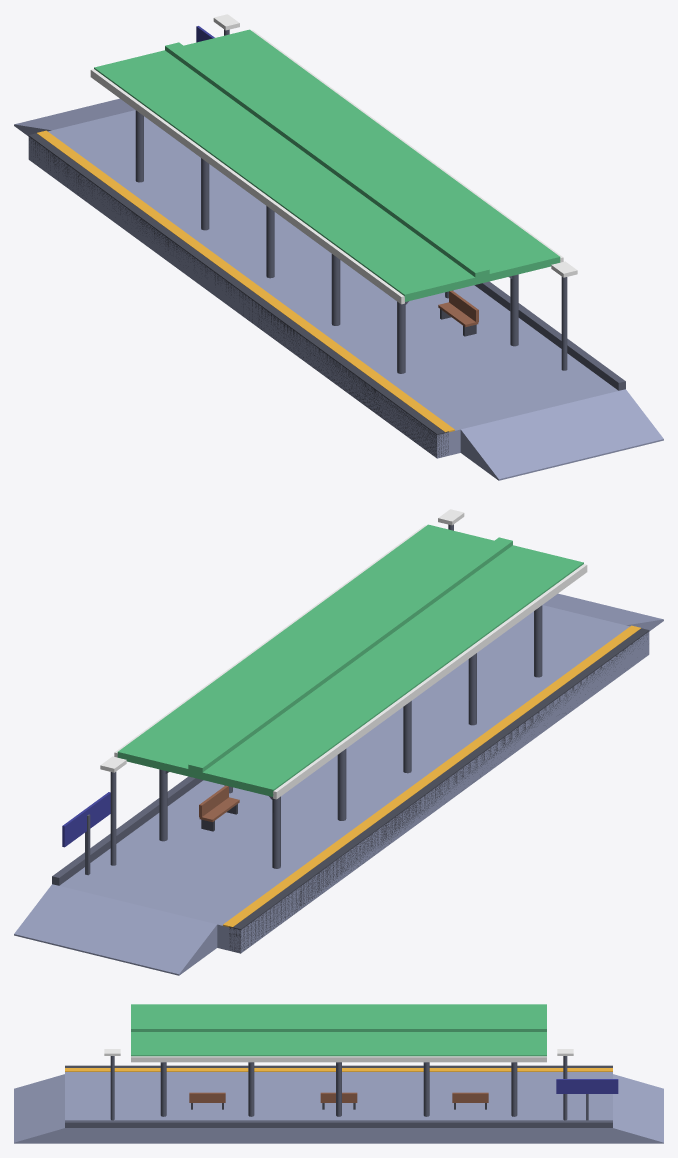
Rendered from quai-gare.glb.
3 views of the same model, one above another, from view 1: azimuth 30°, elevation 25°; view 2: azimuth 150°, elevation 25°; view 3: azimuth 270°, elevation 25° (orthographic). The views are drawn at different scales.
Parts seen in each view (by area): view 1: dalle, toit-abri, rampe-ar, nez-de-quai, faitiere, bande-eveil, bandeau-rive-g, bordure-arriere, rampe-av, bandeau-rive-d, poteau-3g; view 2: dalle, toit-abri, rampe-av, nez-de-quai, faitiere, bande-eveil, bandeau-rive-g, bordure-arriere, rampe-ar, panneau-nom, bandeau-rive-d, poteau-1g; view 3: dalle, toit-abri, bordure-arriere, faitiere, rampe-ar, rampe-av, bandeau-rive-d, bande-eveil, nez-de-quai, dossier (×3), panneau-nom, poteau-0d (+6 smaller).
Part boxes in pixels (left/top/right/bottom): dalle: left=28, top=110, right=618, bottom=458; toit-abri: left=94, top=29, right=560, bottom=301; rampe-ar: left=460, top=389, right=663, bottom=480; nez-de-quai: left=28, top=133, right=448, bottom=457; faitiere: left=165, top=42, right=489, bottom=277; bande-eveil: left=37, top=130, right=454, bottom=432; bandeau-rive-g: left=90, top=69, right=404, bottom=304; bordure-arriere: left=474, top=281, right=625, bottom=390; rampe-av: left=14, top=98, right=134, bottom=136; bandeau-rive-d: left=252, top=30, right=563, bottom=262; poteau-3g: left=331, top=254, right=340, bottom=325; dalle: left=59, top=605, right=649, bottom=953; toit-abri: left=117, top=524, right=583, bottom=796; rampe-av: left=14, top=884, right=217, bottom=975; nez-de-quai: left=229, top=628, right=649, bottom=953; faitiere: left=188, top=537, right=512, bottom=772; bande-eveil: left=223, top=625, right=640, bottom=927; bandeau-rive-g: left=273, top=564, right=587, bottom=799; bordure-arriere: left=52, top=776, right=203, bottom=885; rampe-ar: left=543, top=593, right=663, bottom=631; panneau-nom: left=62, top=792, right=110, bottom=847; bandeau-rive-d: left=114, top=525, right=425, bottom=757; poteau-1g: left=337, top=749, right=346, bottom=820; dalle: left=65, top=1072, right=612, bottom=1143; toit-abri: left=131, top=1004, right=546, bottom=1056; bordure-arriere: left=65, top=1120, right=612, bottom=1127; faitiere: left=131, top=1024, right=546, bottom=1031; rampe-ar: left=14, top=1074, right=64, bottom=1143; rampe-av: left=613, top=1074, right=663, bottom=1143; bandeau-rive-d: left=131, top=1056, right=546, bottom=1062; bande-eveil: left=65, top=1068, right=612, bottom=1071; nez-de-quai: left=65, top=1065, right=612, bottom=1067; dossier (×3): left=189, top=1092, right=488, bottom=1101; panneau-nom: left=556, top=1079, right=618, bottom=1093; poteau-0d: left=511, top=1062, right=517, bottom=1116.
Size of the model in its own units: 0.4 by 0.26 by 1.78.
